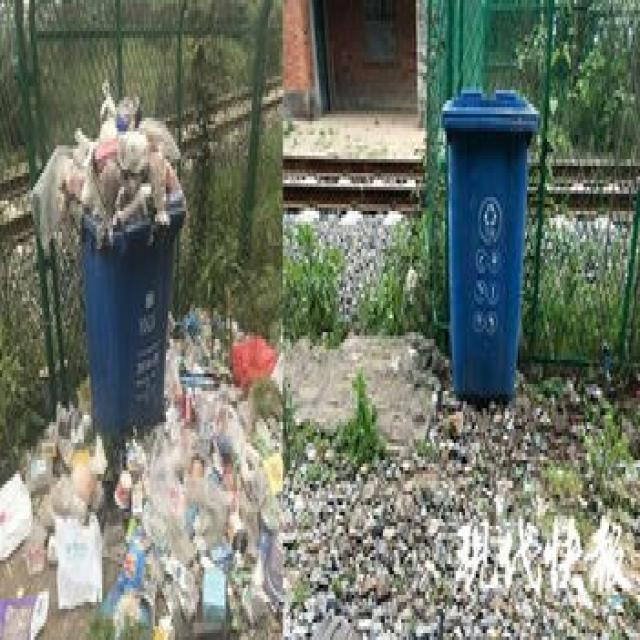garbage: (0, 304, 281, 636)
garbage_bin: (439, 83, 542, 394)
overflow: (31, 80, 184, 426)
